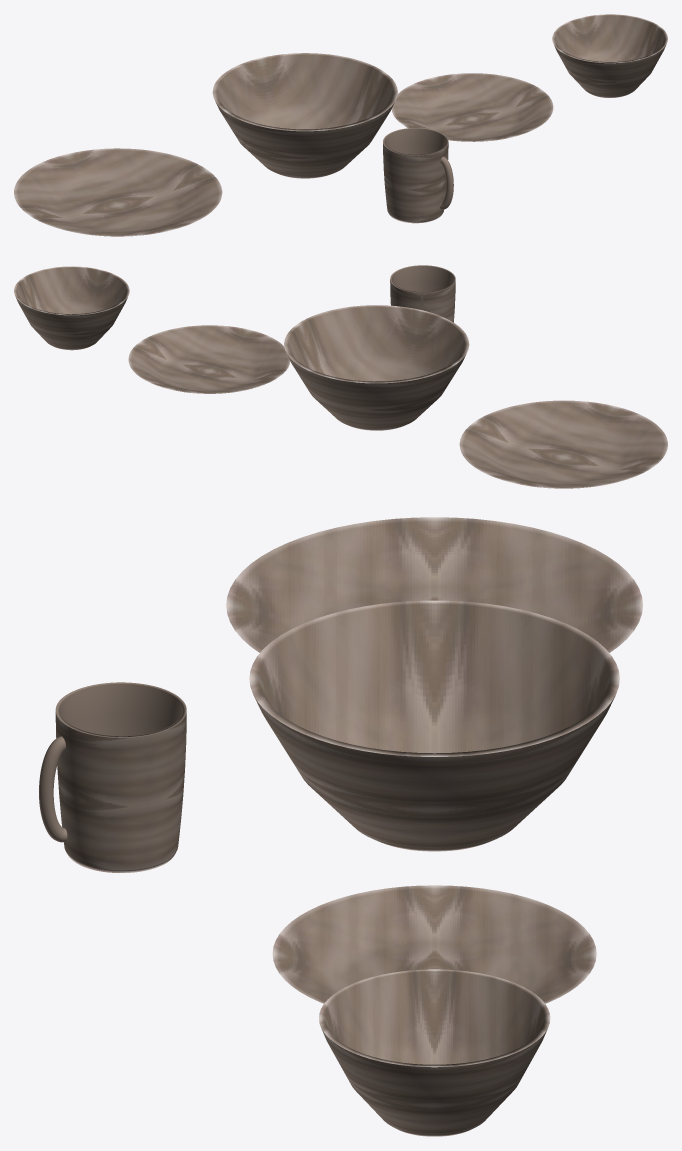
The model's file is BLC-14.glb.
The picture shows the model from 3 angles, top to bottom: view 1: azimuth 30°, elevation 25°; view 2: azimuth 150°, elevation 25°; view 3: azimuth 270°, elevation 25°; orthographic projection. The views are drawn at different scales.
Size of the model in its own units: 0.946 by 0.1 by 0.3913.
Materials: 11 (9 with a texture image).
